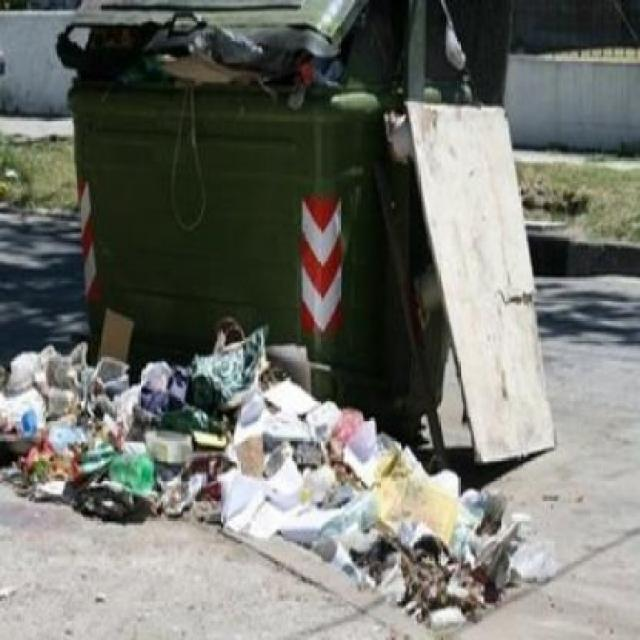garbage: (0, 321, 568, 624), (71, 6, 355, 162), (389, 71, 550, 332)
